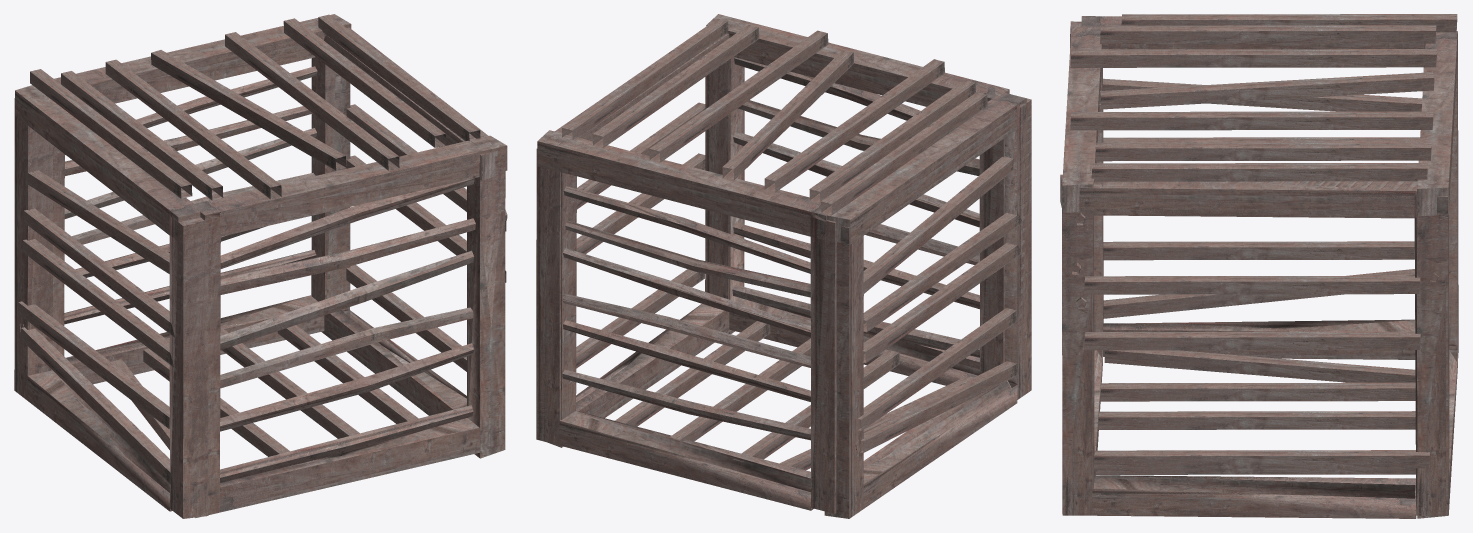
Rendered from crate.fbx.
3 views of the same model, side by side, from view 1: azimuth 30°, elevation 25°; view 2: azimuth 150°, elevation 25°; view 3: azimuth 270°, elevation 25° (orthographic). The views are drawn at different scales.
Visible parts, largest first — view 1: Model; view 2: Model; view 3: Model.
Boxes of the visible parts, x1=… form: Model: x1=14, y1=14, x2=507, y2=518; Model: x1=536, y1=14, x2=1031, y2=518; Model: x1=1060, y1=14, x2=1458, y2=518.
Bounding box in the file's own units: 60.6 × 55.79 × 57.74.
